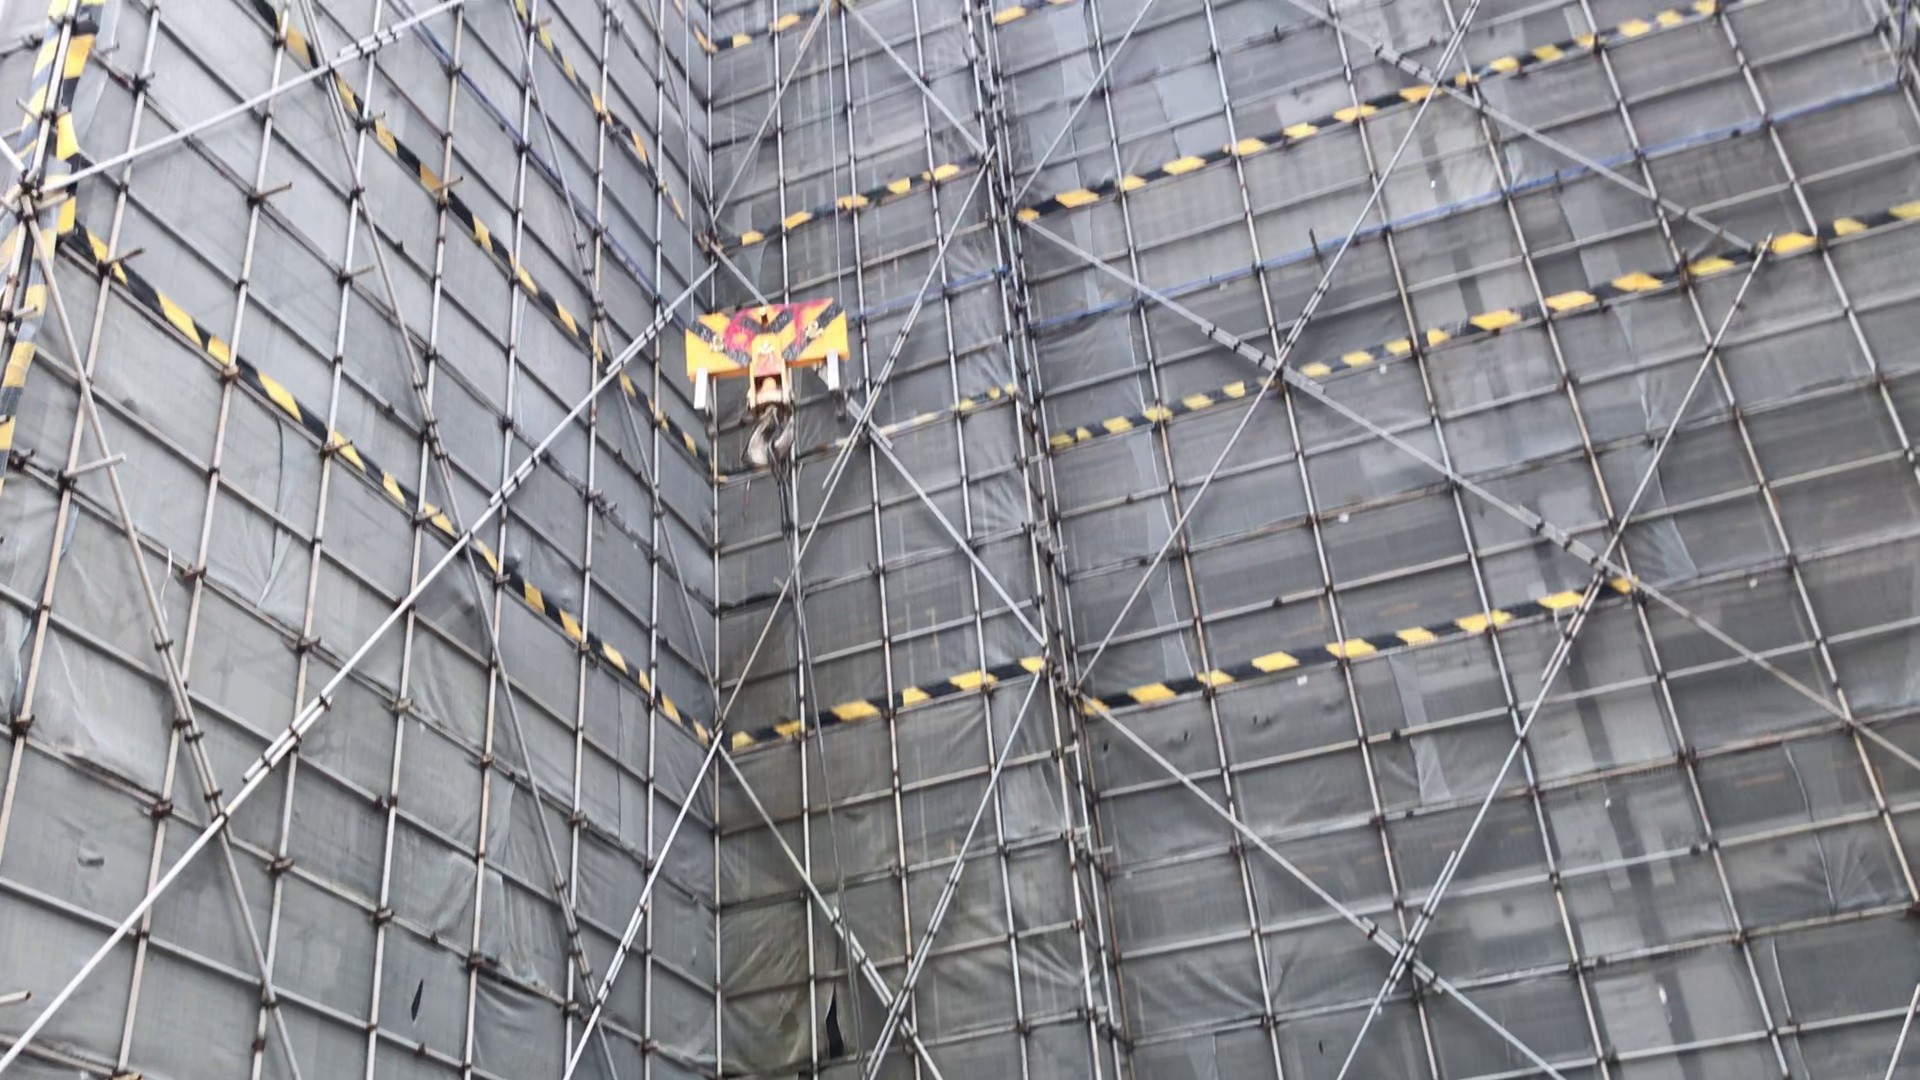hook: (688, 295, 857, 465)
